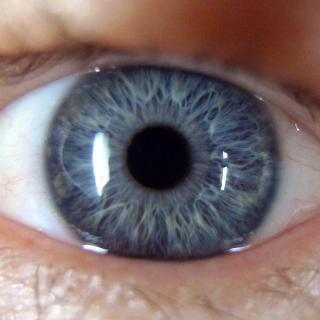iris: (40, 38, 280, 277)
